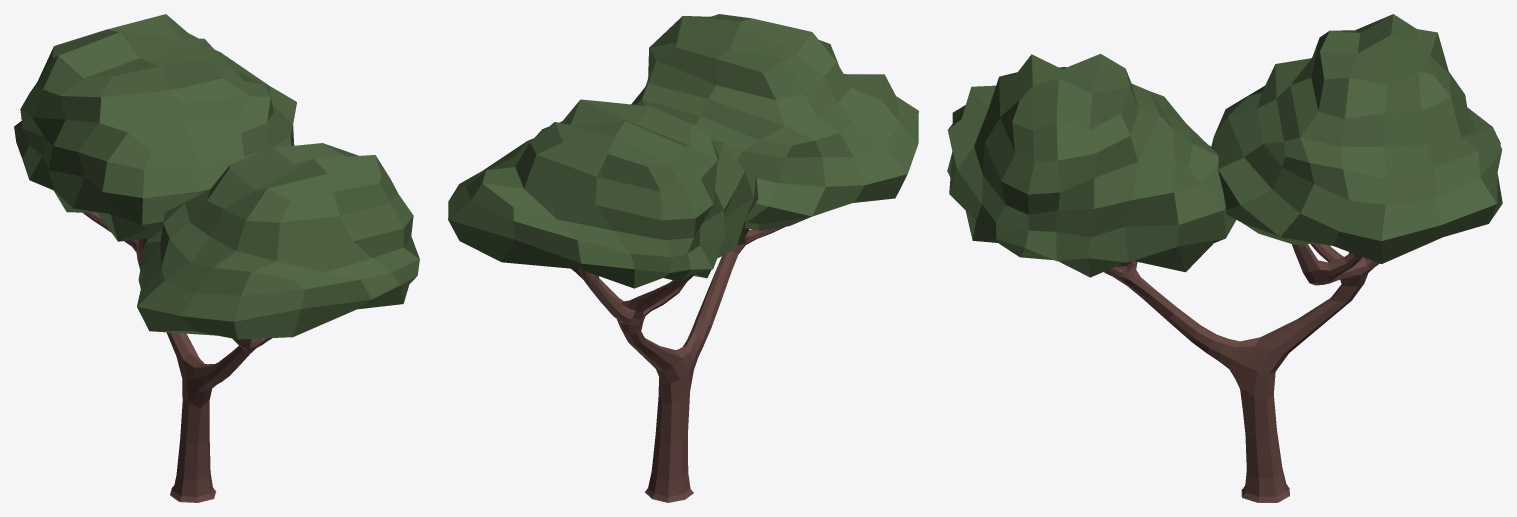
Rendered from CommonTree_1.gltf.
3 views of the same model, side by side, from view 1: azimuth 30°, elevation 25°; view 2: azimuth 150°, elevation 25°; view 3: azimuth 270°, elevation 25° (orthographic). The views are drawn at different scales.
Parts seen in each view (by area): view 1: CommonTree_1; view 2: CommonTree_1; view 3: CommonTree_1.
Part boxes in pixels (box(x1,y1,x2,y2)): CommonTree_1: box(14, 14, 419, 502); CommonTree_1: box(448, 14, 918, 502); CommonTree_1: box(947, 14, 1502, 502).
Size of the model in its own units: 1.89 by 2.48 by 2.77.
